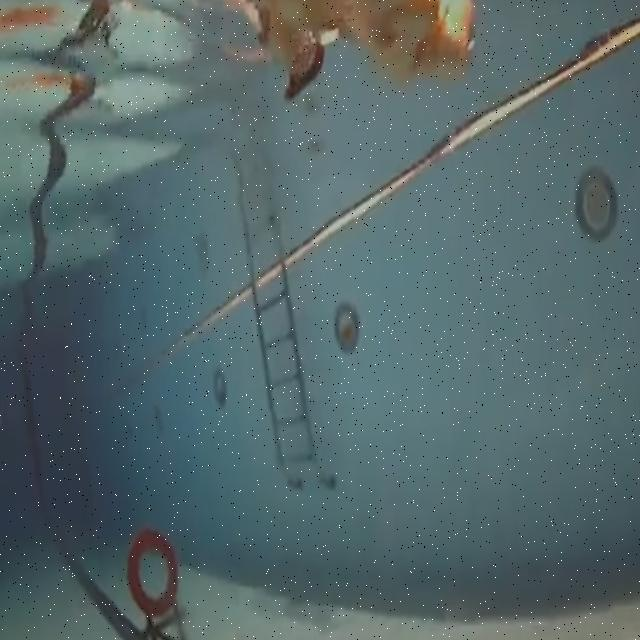Circle: (125, 526, 181, 622)
